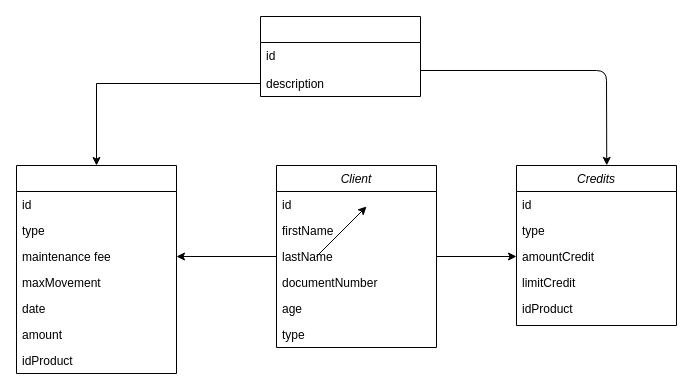
Some shapes in this 693 by 390 pixel diagram are drawn without their labels. The box of each missing label's shape, as (x1, y1, x2, y2) in pixels:
Bank Accounts: (16, 164, 176, 374)
Product: (260, 16, 420, 96)
